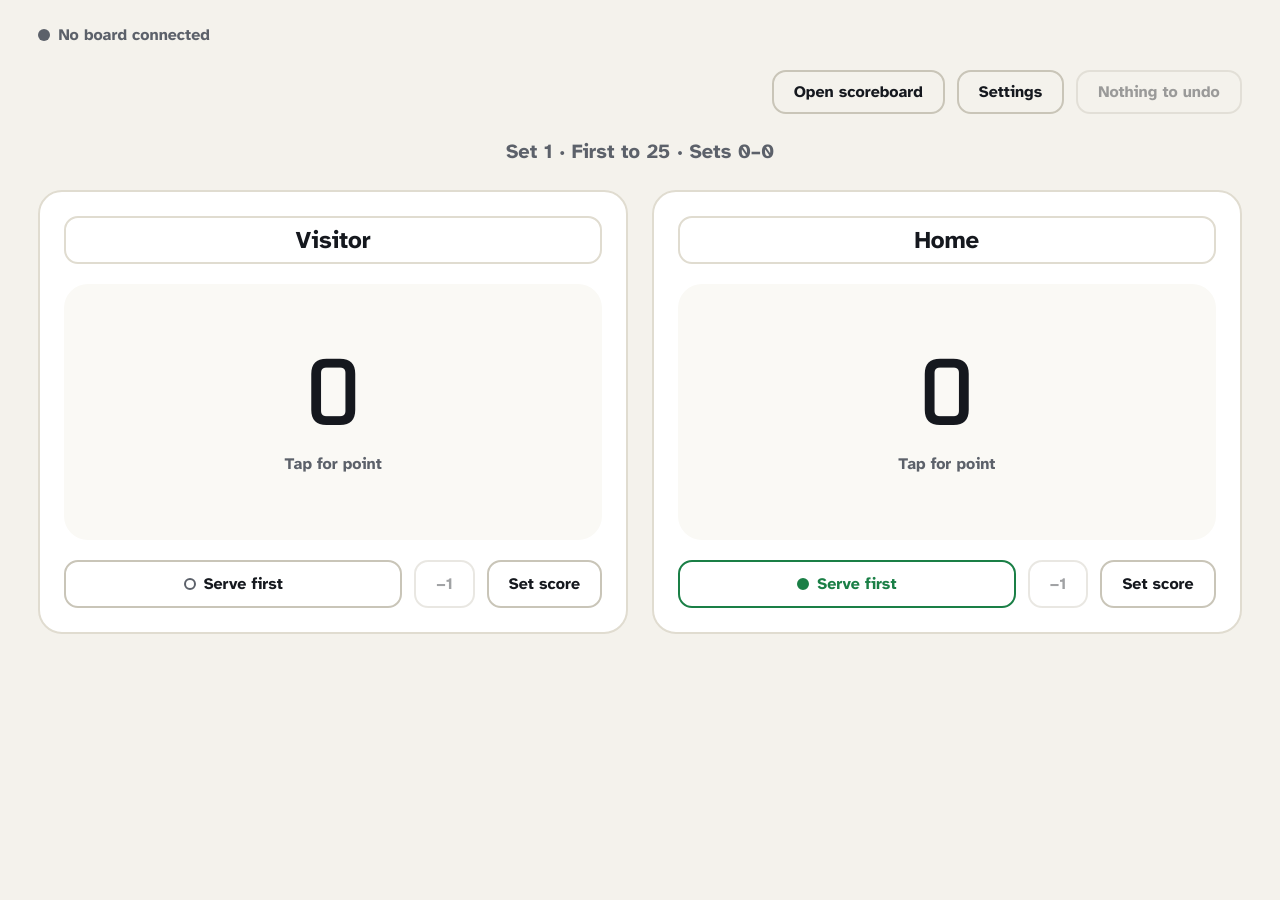
VolleyballConsole › scoring › scores a point for the tapped team at once
Click the button with aria-label "Point for Home": [947, 464] box [898,453,995,476]
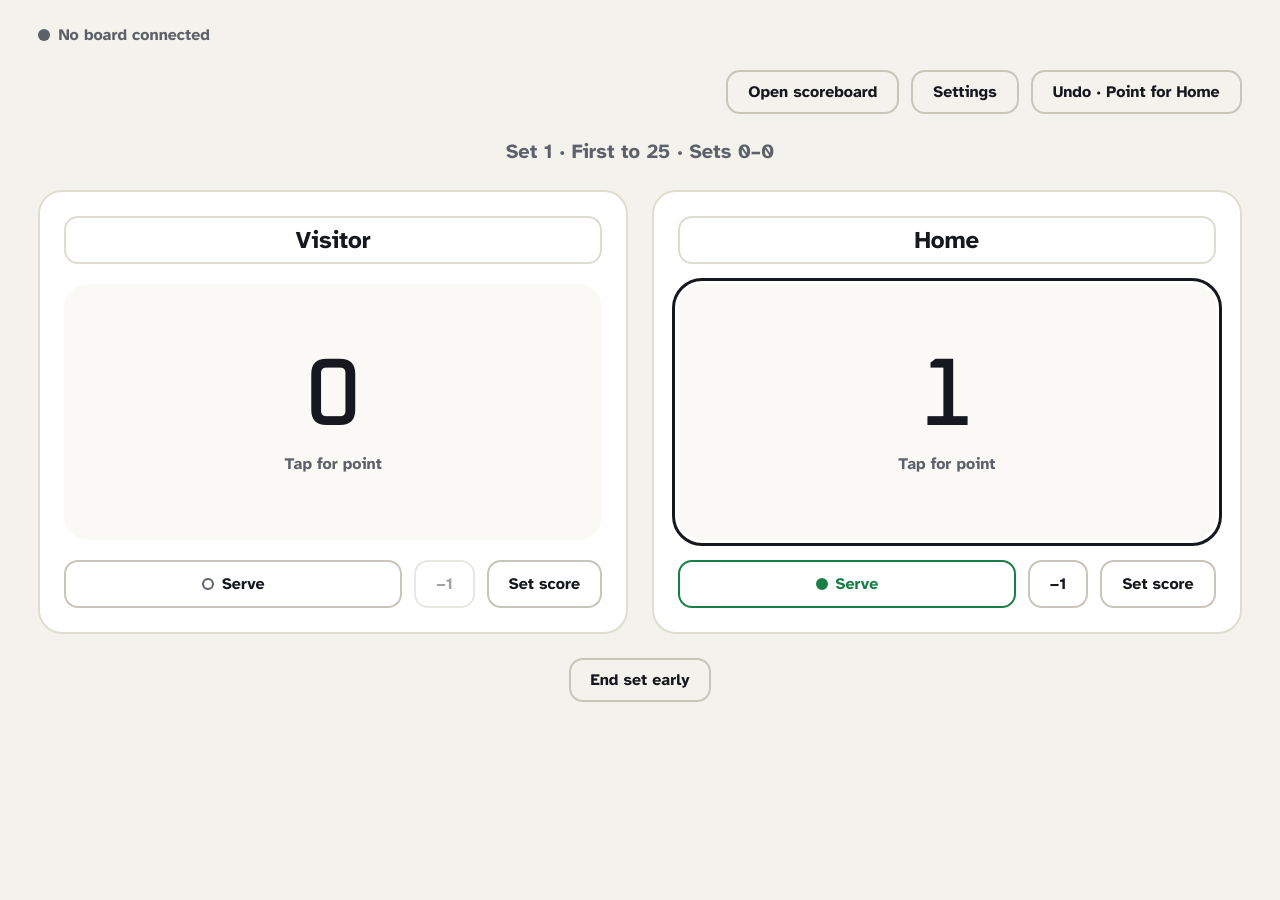
Click the button with aria-label "Point for Home": [947, 464] box [898,453,995,476]
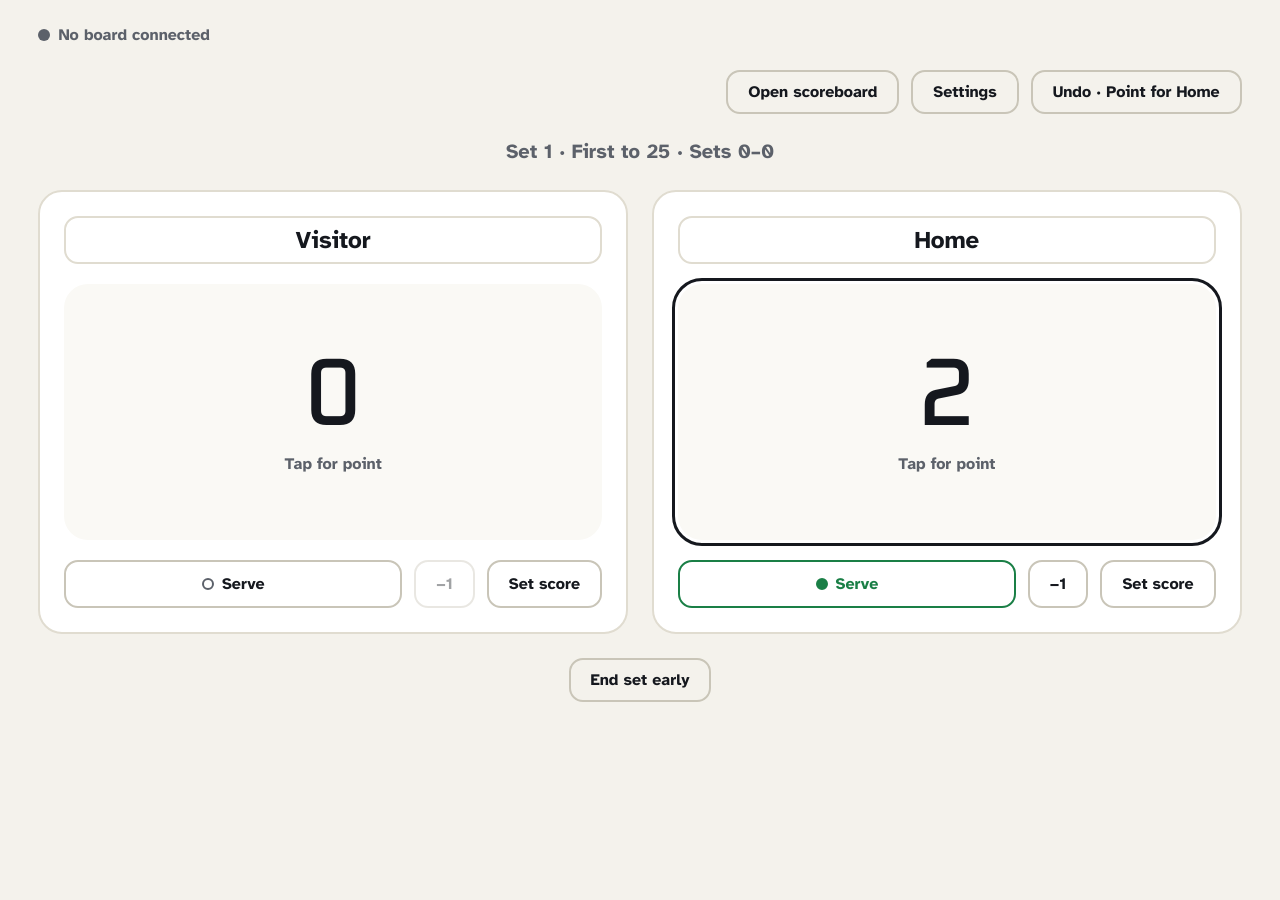
Click the button with aria-label "Point for Visitor": [333, 464] box [285,453,382,476]
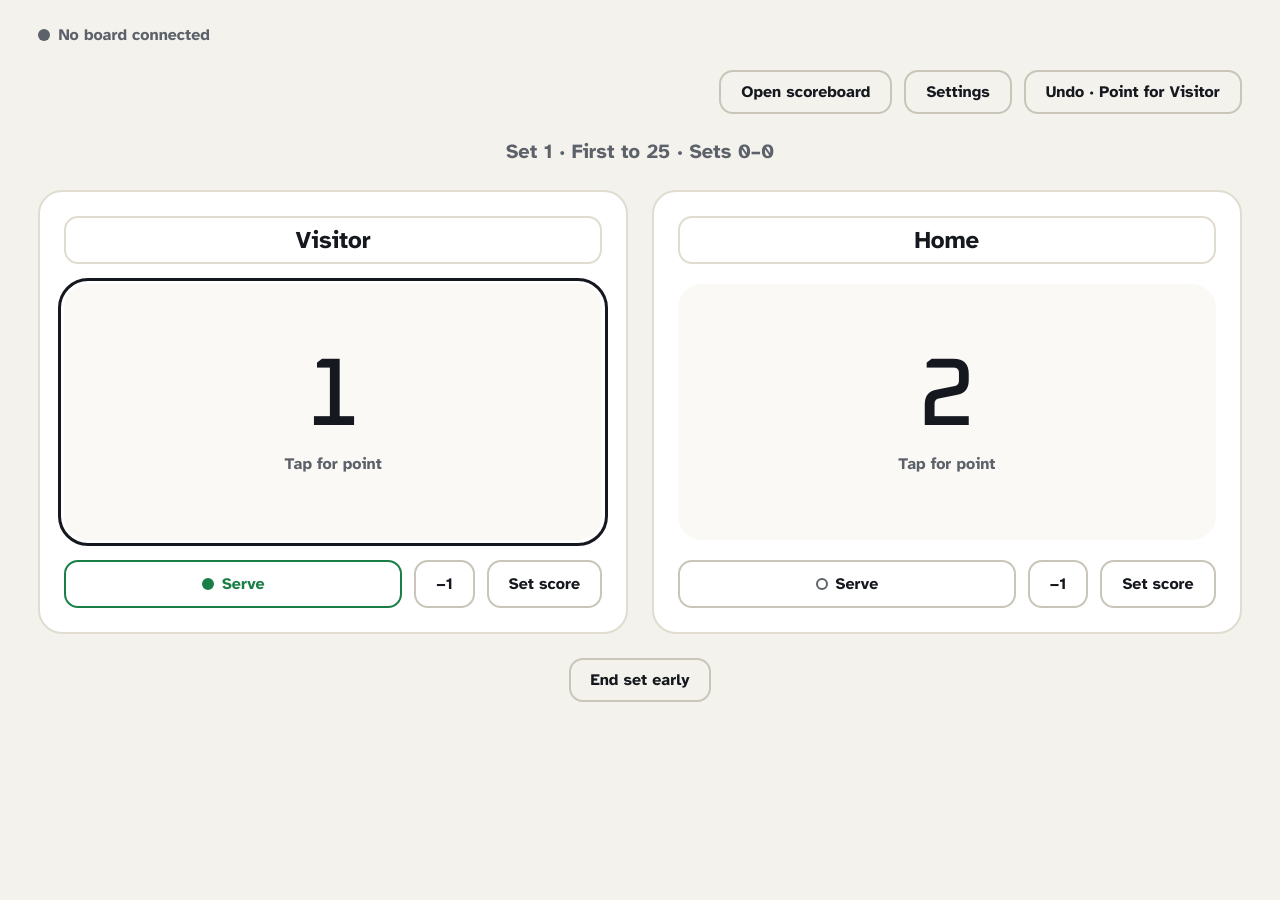
Now the text named "Home score" reads "2", box [919,349,974,445]
Now the text named "Visitor score" reads "1", box [305,349,361,445]
